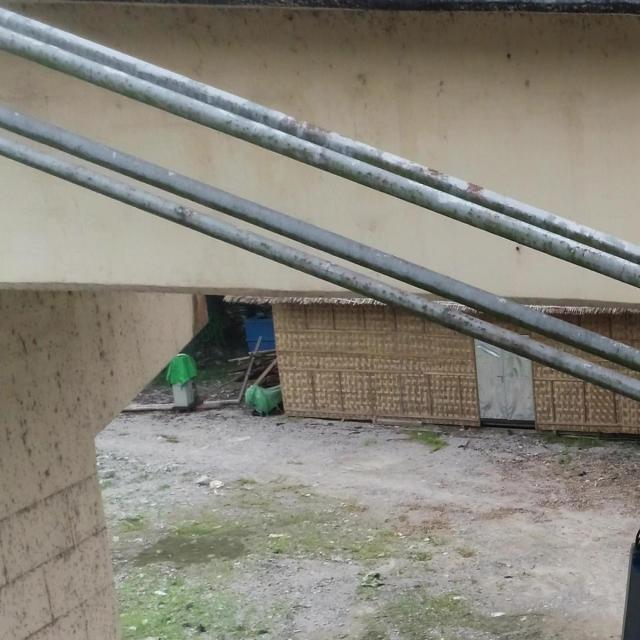corrosion: (305, 124, 330, 148), (280, 115, 302, 136), (420, 166, 440, 186), (467, 182, 486, 202)
